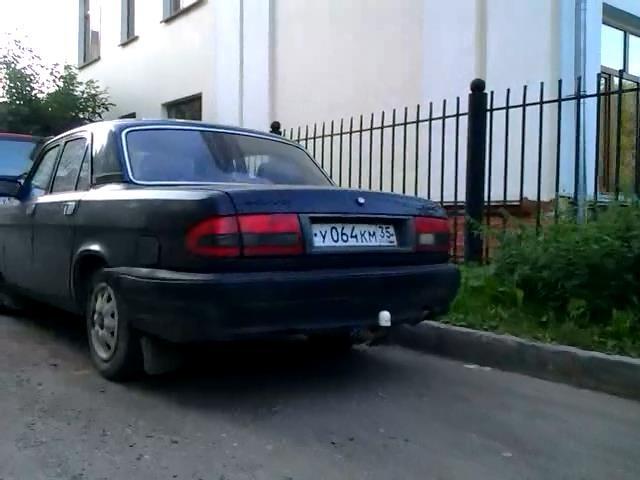car license plate: (309, 217, 398, 249)
